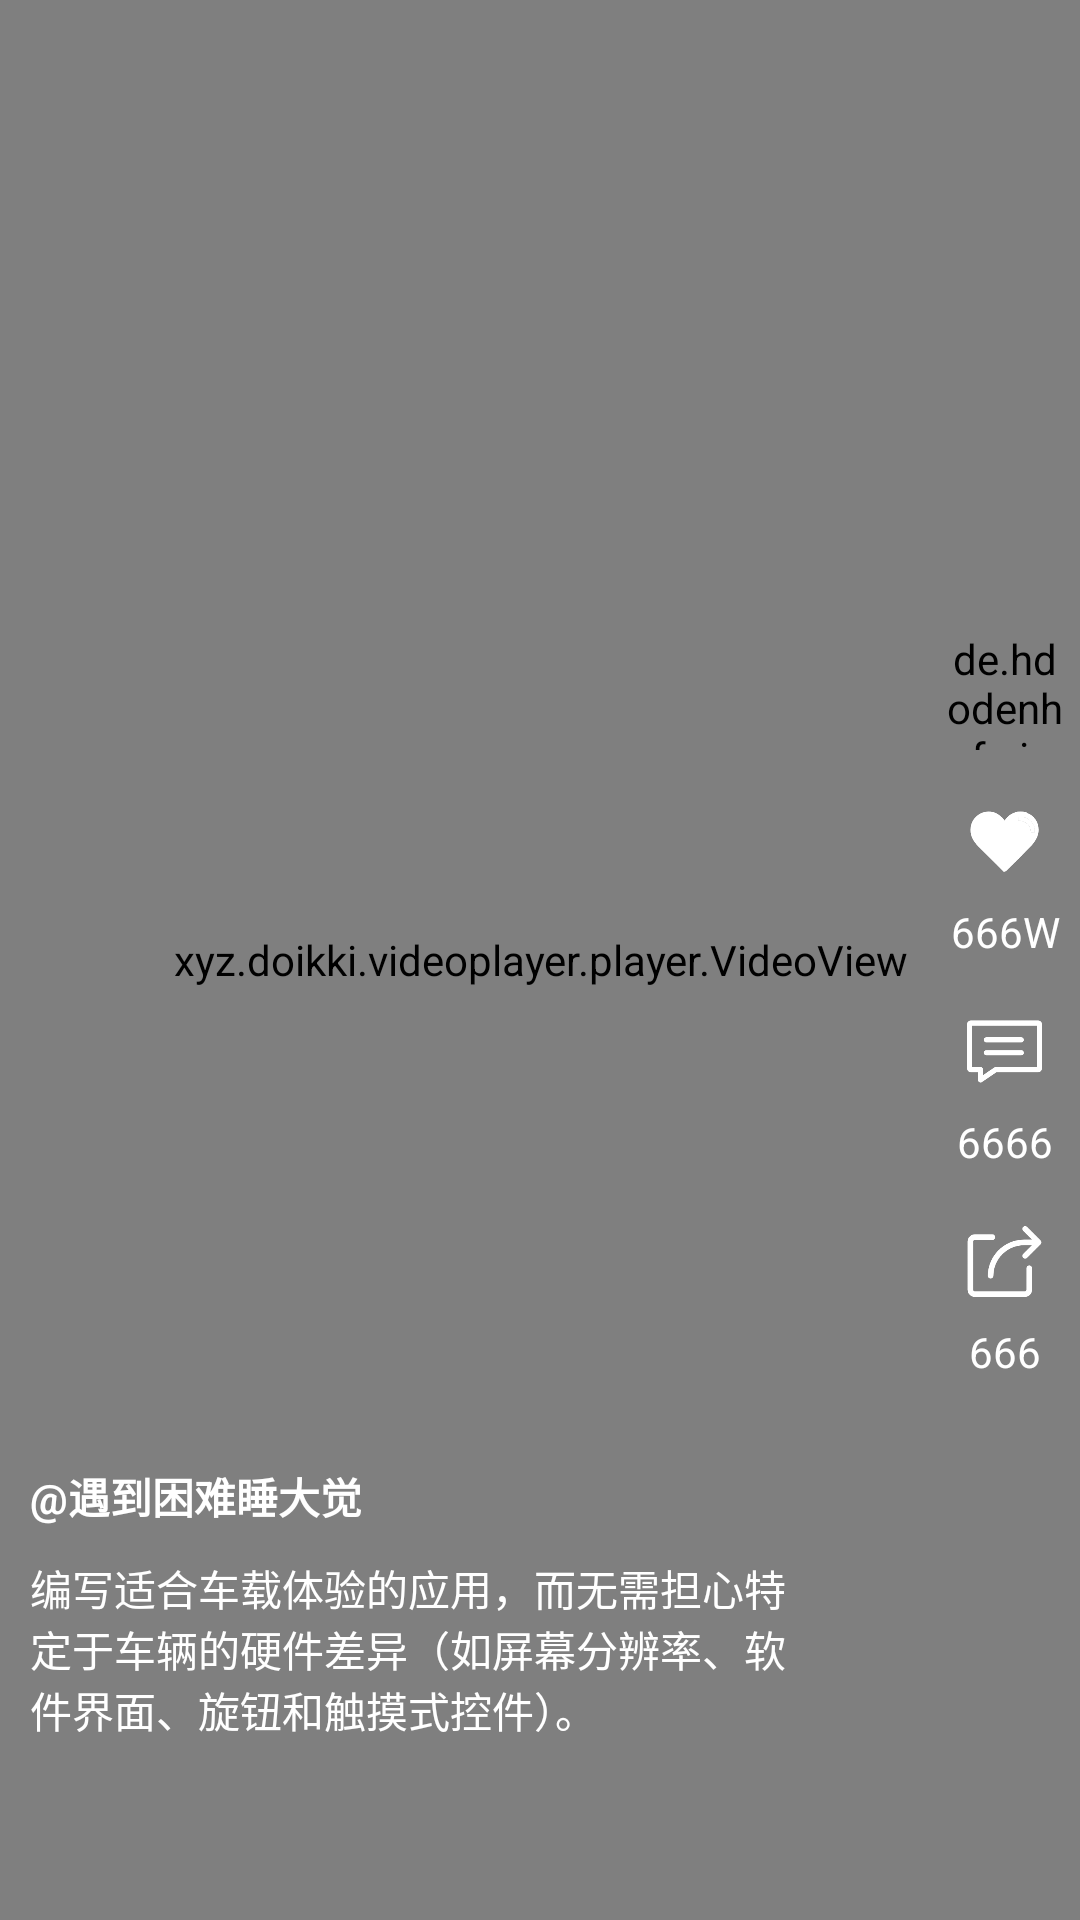

Where icons sit on this 1080 × 1920 app screen, as (left=x1, top=y1, right=x2, bottom=y2):
heart: (left=970, top=811, right=1039, bottom=872)
message: (left=967, top=1020, right=1042, bottom=1083)
share: (left=967, top=1226, right=1042, bottom=1297)
